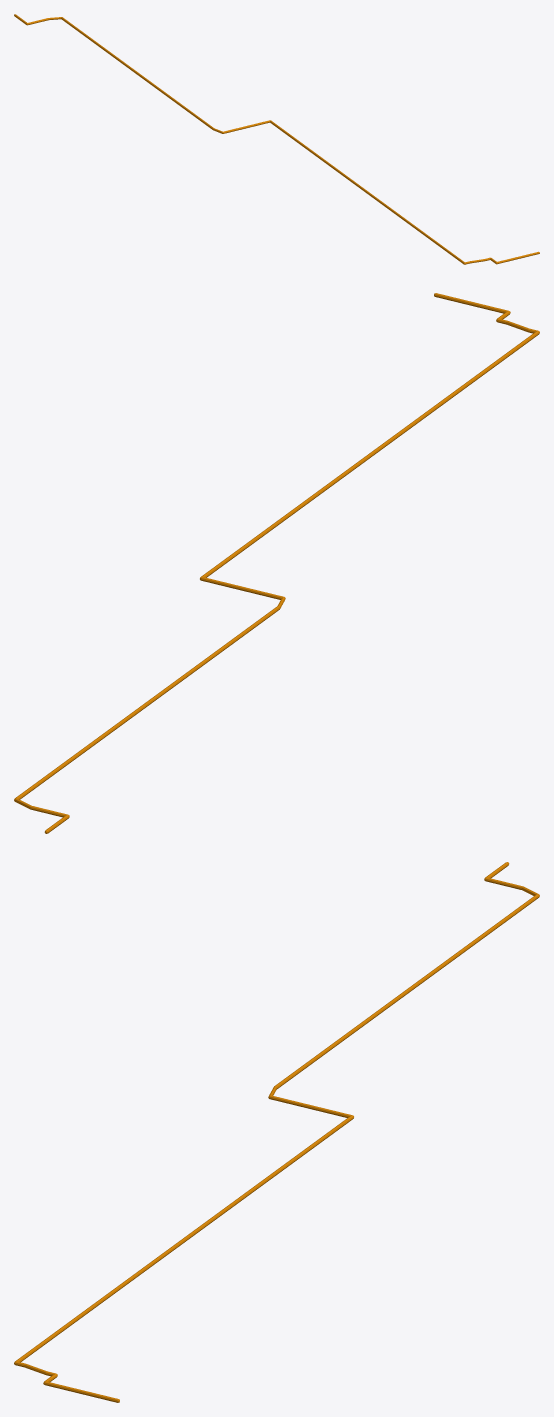
The picture shows the model from 3 angles, top to bottom: view 1: azimuth 30°, elevation 25°; view 2: azimuth 150°, elevation 25°; view 3: azimuth 330°, elevation 25°; orthographic projection. The views are drawn at different scales.
Size of the model in its own units: 1440 by 20 by 6182.
